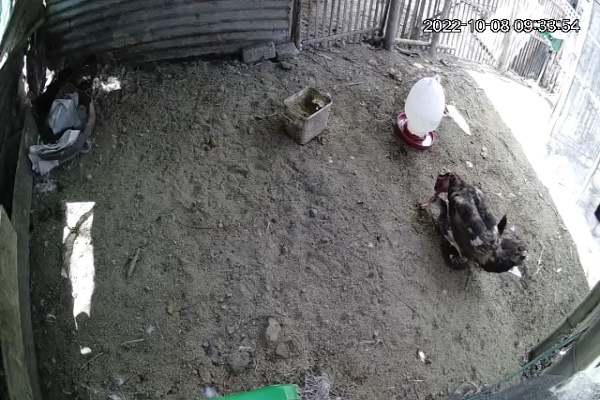Kawin: (404, 164, 538, 289)
